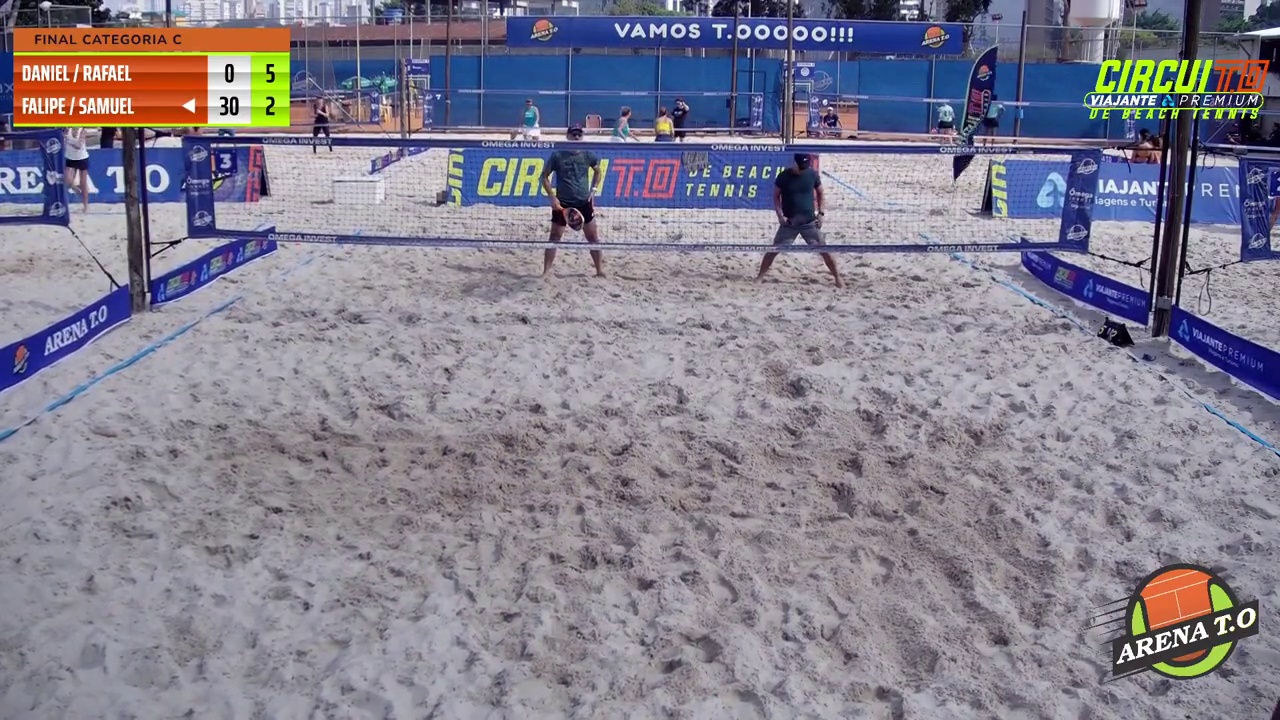court_line: (600, 0, 803, 366)
